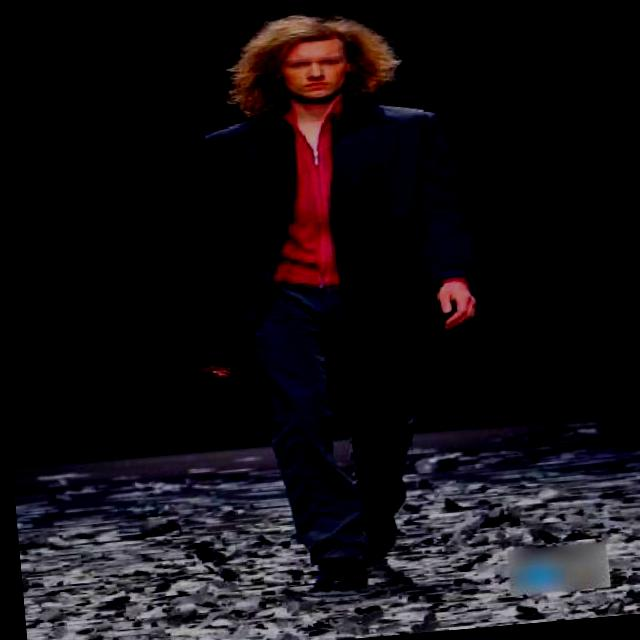Person: (132, 0, 542, 623)
